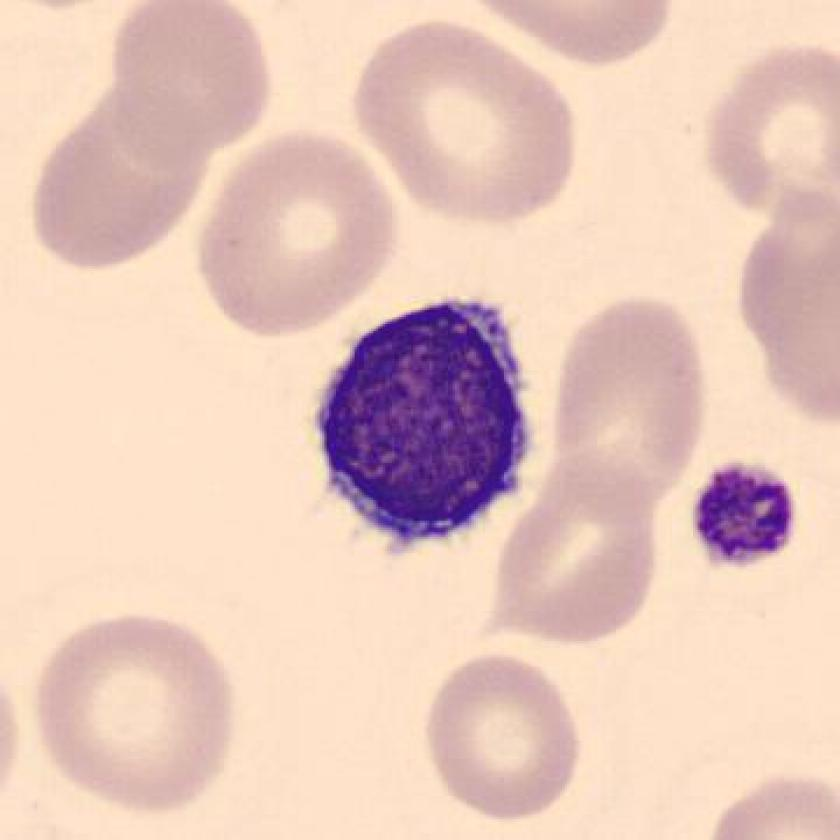lymphocyte: (300, 288, 549, 561)
